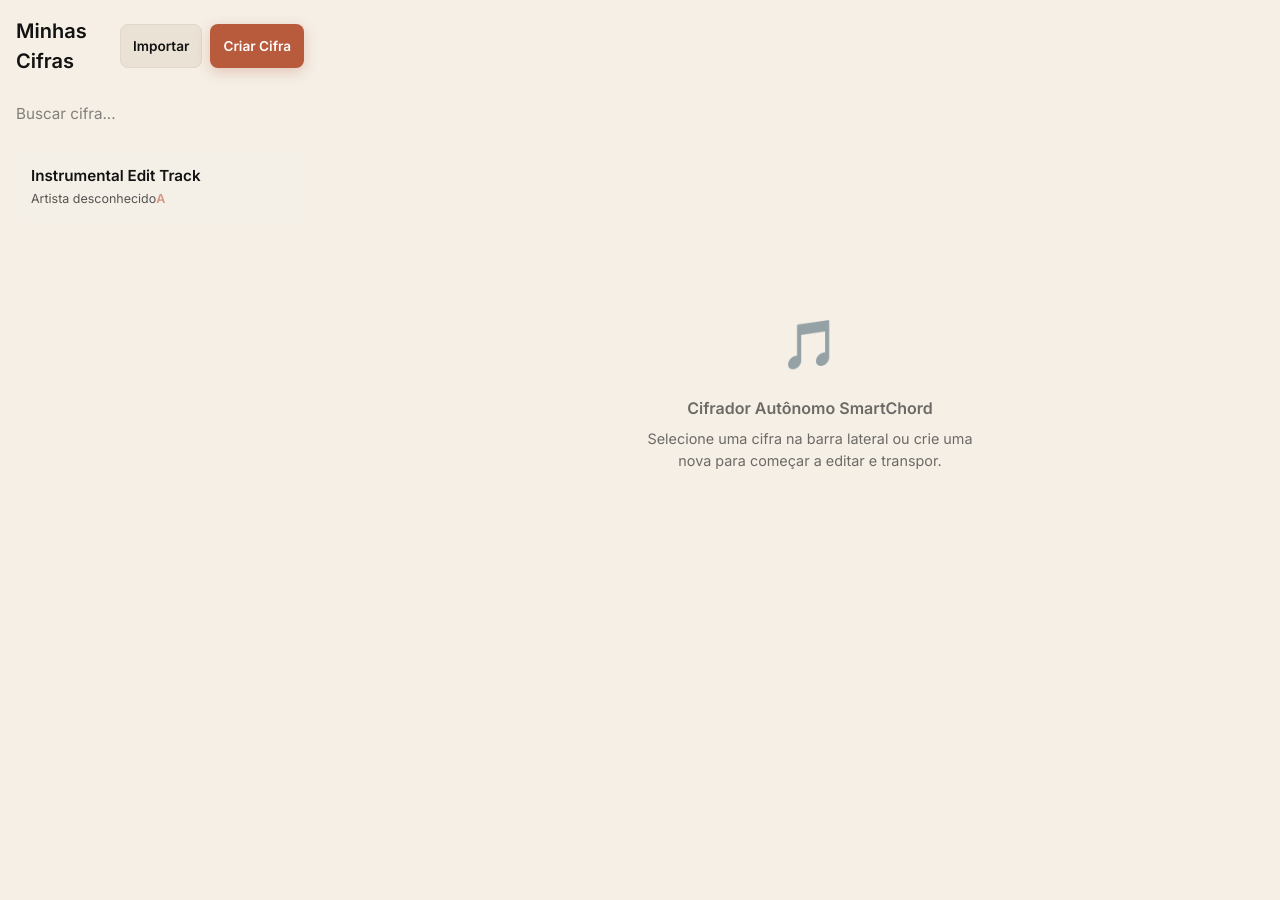
Scenario: SmartChordsWorkspace › Instrumental Bar Progression UI Safety (Hotfix R1.2) › safely edits only the third chord D9 -> E9 preserving all delimiters, spaces and other chords
Click the text "Instrumental Edit Track": x=116, y=176 [31,165,200,188]
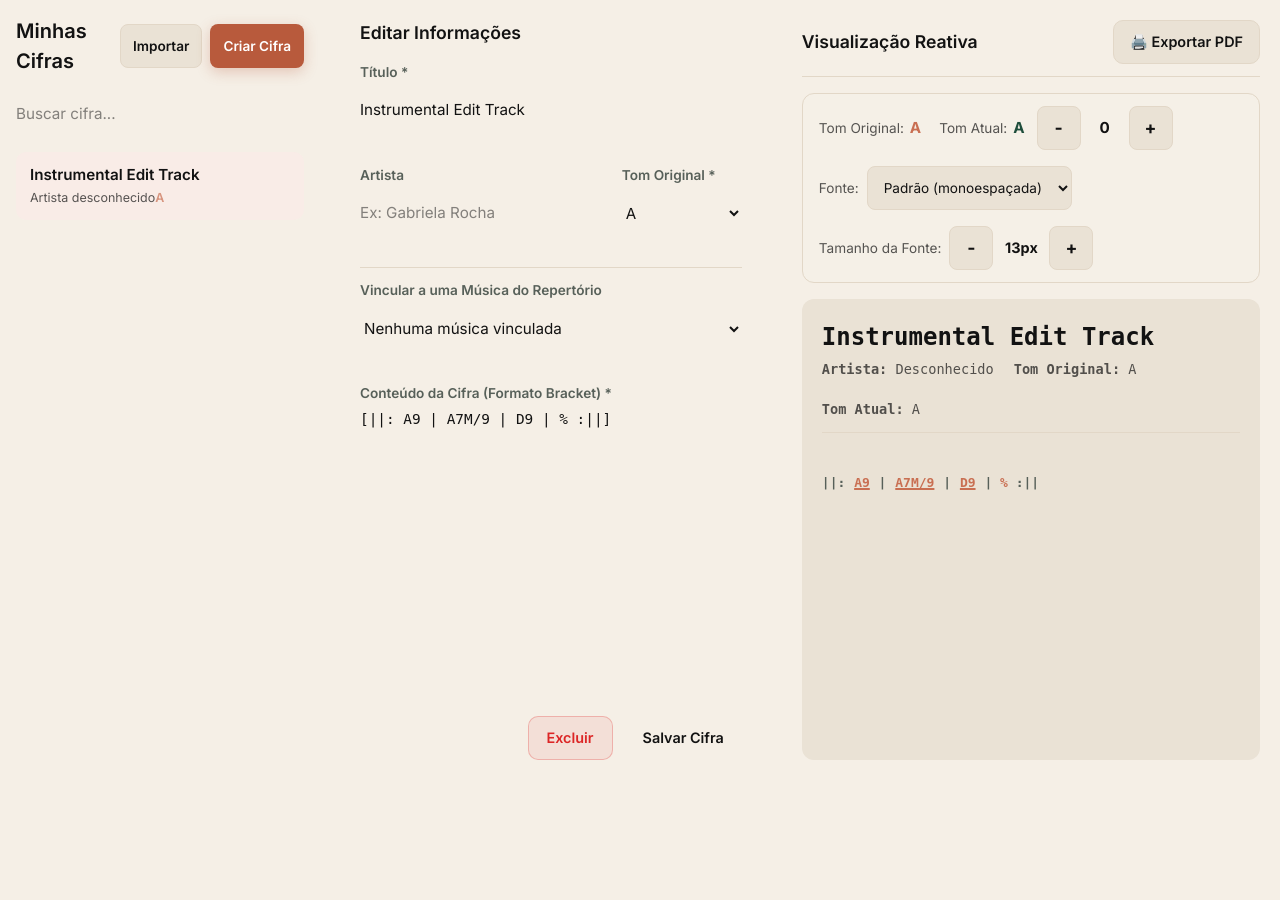
Now the text "D9" is shown
// Click D9 (chordIndex 2)
Click the text "D9": x=968, y=483 [959,474,977,492]
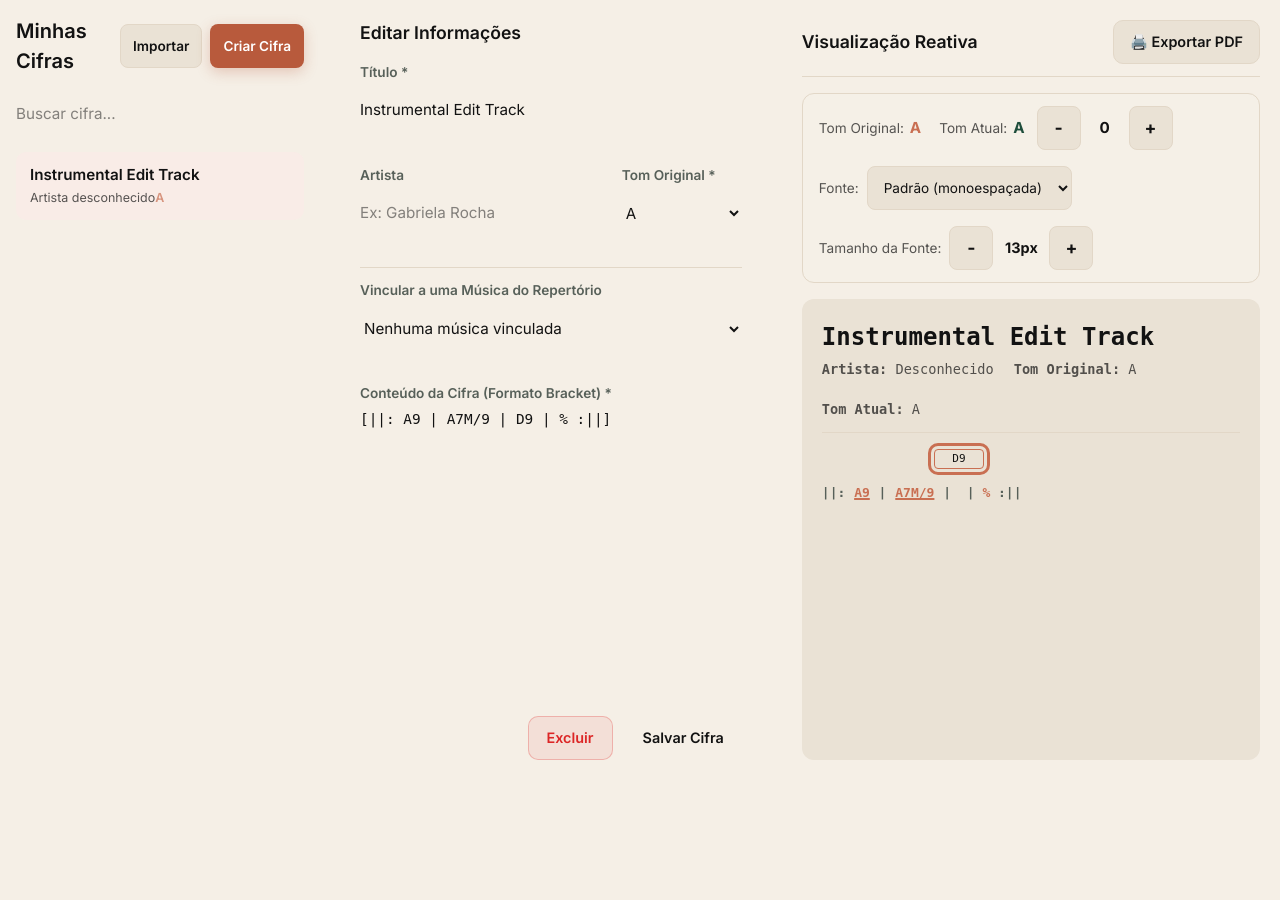
Now the field showing "D9" below "Artista:" is shown
Replace the text in the field showing "D9" below "Artista:" with "E9": x=959, y=459 [934,449,984,469]
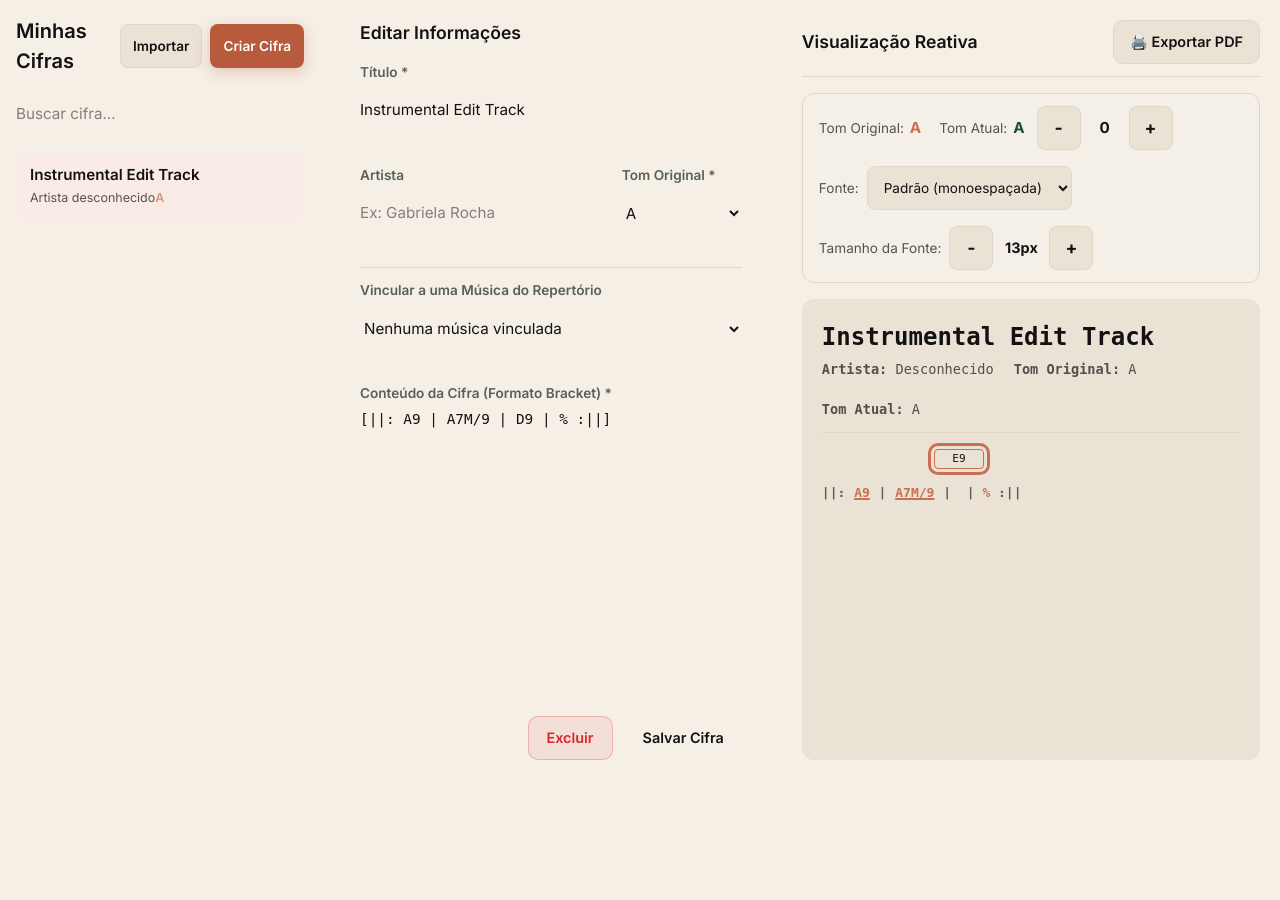
Press Enter in the field showing "D9" below "Artista:", box [934,449,984,469]
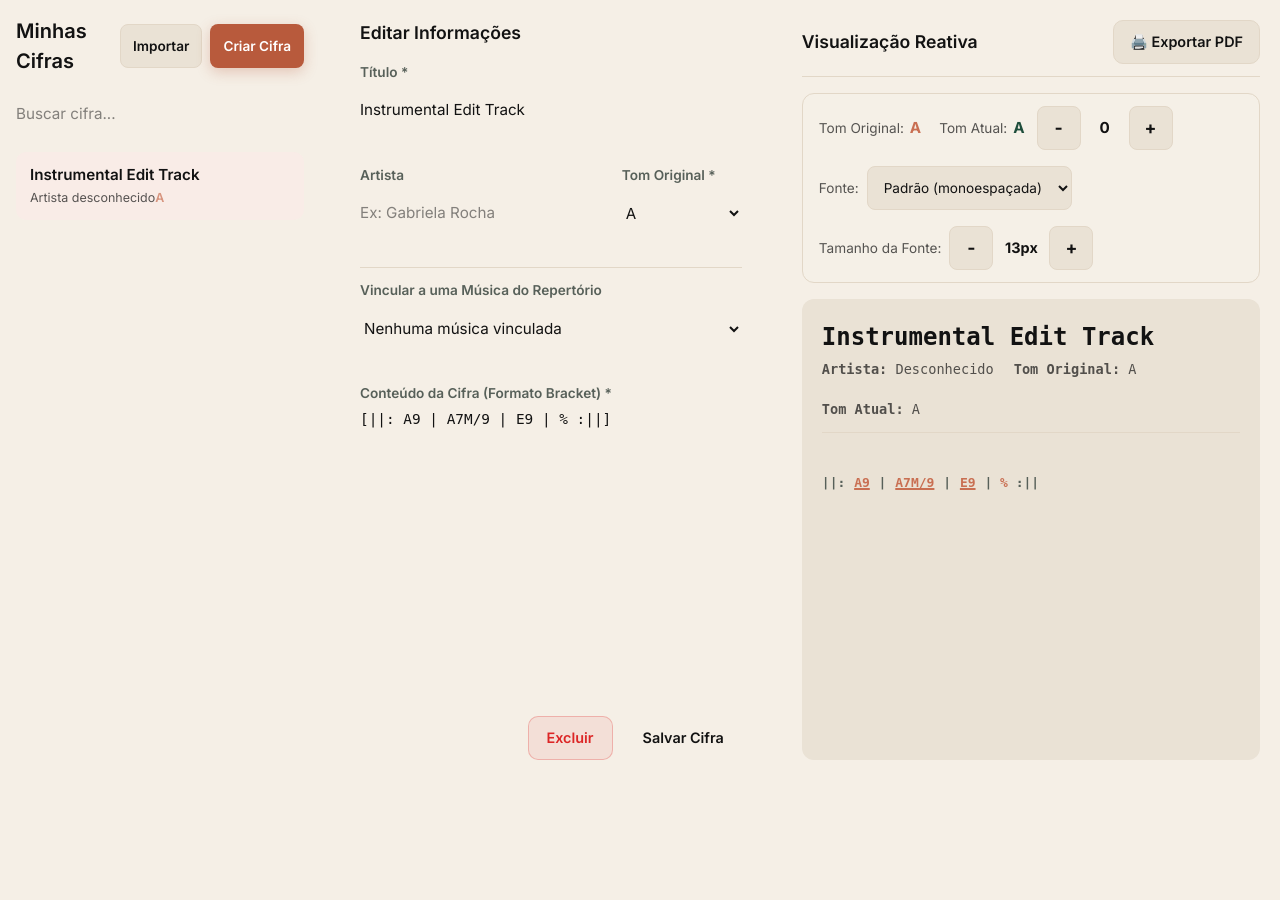
Now the text "A9" is shown, box [853,474,871,492]
Now the text "A7M/9" is shown, box [894,474,935,492]
Now the text "E9" is shown, box [959,474,977,492]
